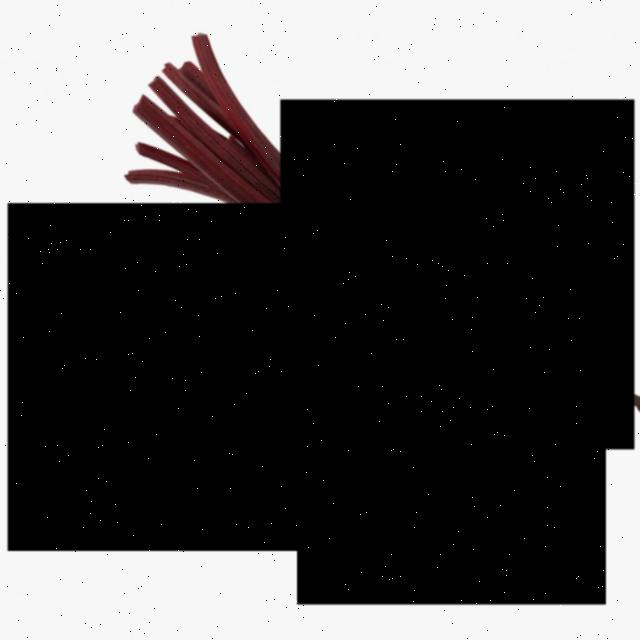Beetroot: (281, 100, 635, 450), (8, 203, 323, 551), (297, 405, 606, 605)
